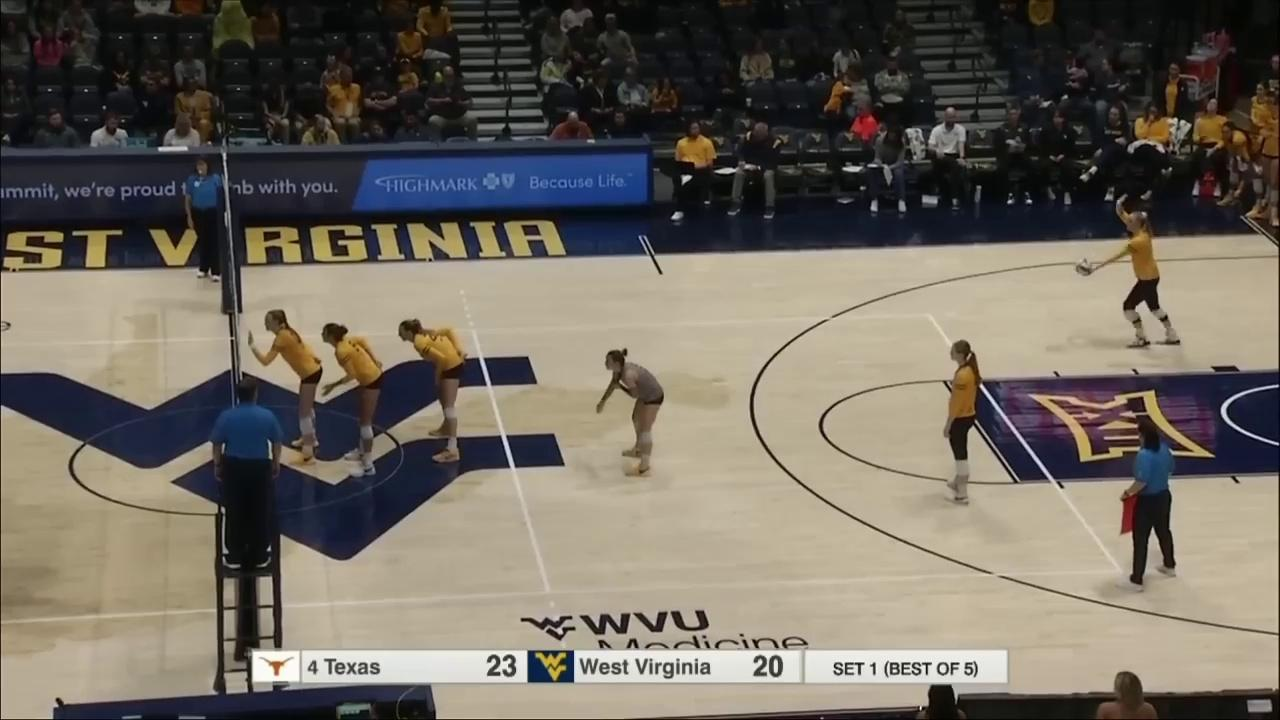player: (1085, 204, 1184, 349), (244, 307, 321, 467), (391, 320, 475, 466), (320, 324, 389, 480), (932, 337, 987, 507), (594, 352, 666, 476)
refree: (203, 374, 284, 573), (1112, 417, 1187, 593), (183, 156, 230, 284)
